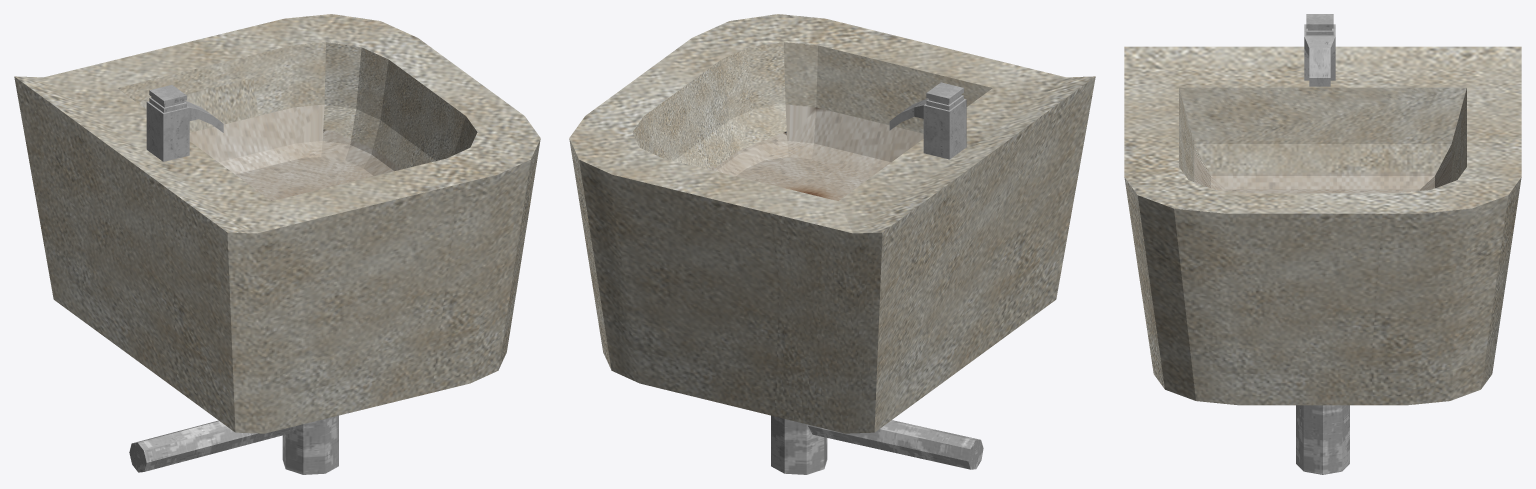
The model's file is sink.fbx.
The picture shows the model from 3 angles, left to right: view 1: azimuth 30°, elevation 25°; view 2: azimuth 150°, elevation 25°; view 3: azimuth 270°, elevation 25°; orthographic projection. The views are drawn at different scales.
Visible parts, largest first — view 1: pCylinder4; view 2: pCylinder4; view 3: pCylinder4.
Part boxes in pixels (<box>): pCylinder4: <box>14,14,540,474</box>; pCylinder4: <box>569,14,1095,474</box>; pCylinder4: <box>1124,14,1521,474</box>.
Size of the model in its own units: 1.14 by 1.27 by 1.21.
